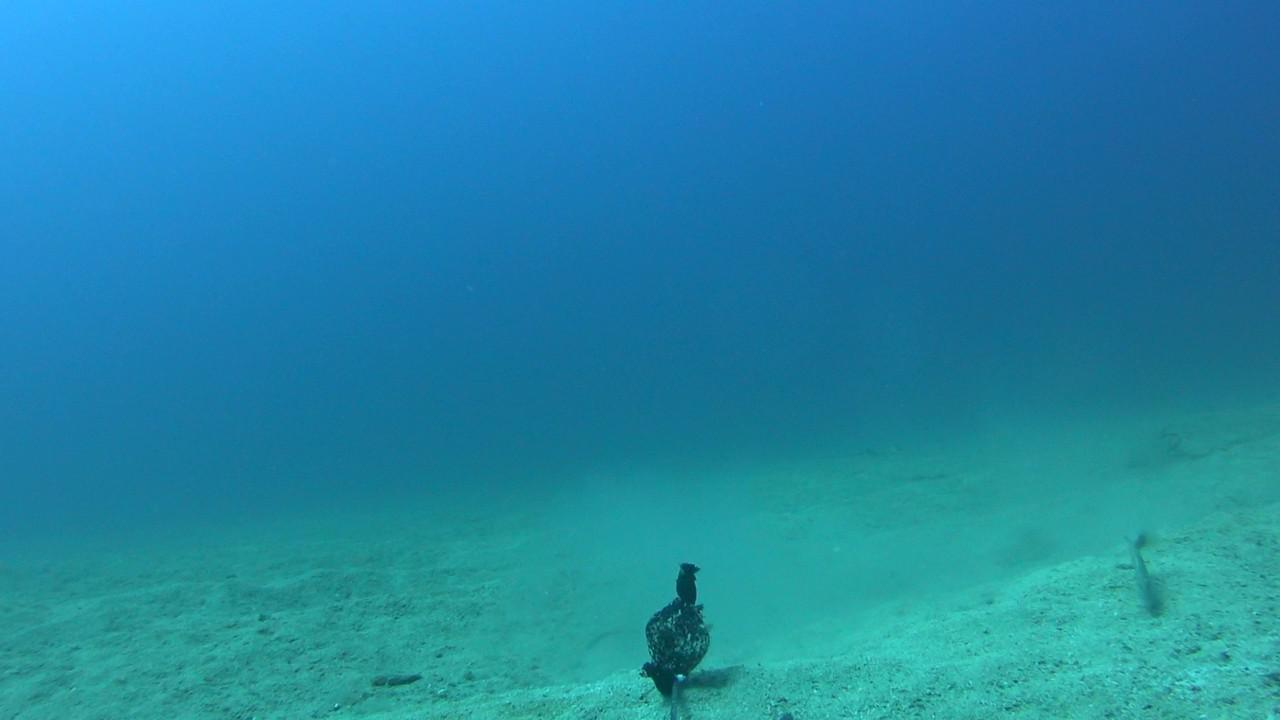myliobatis: (845, 430, 918, 472)
